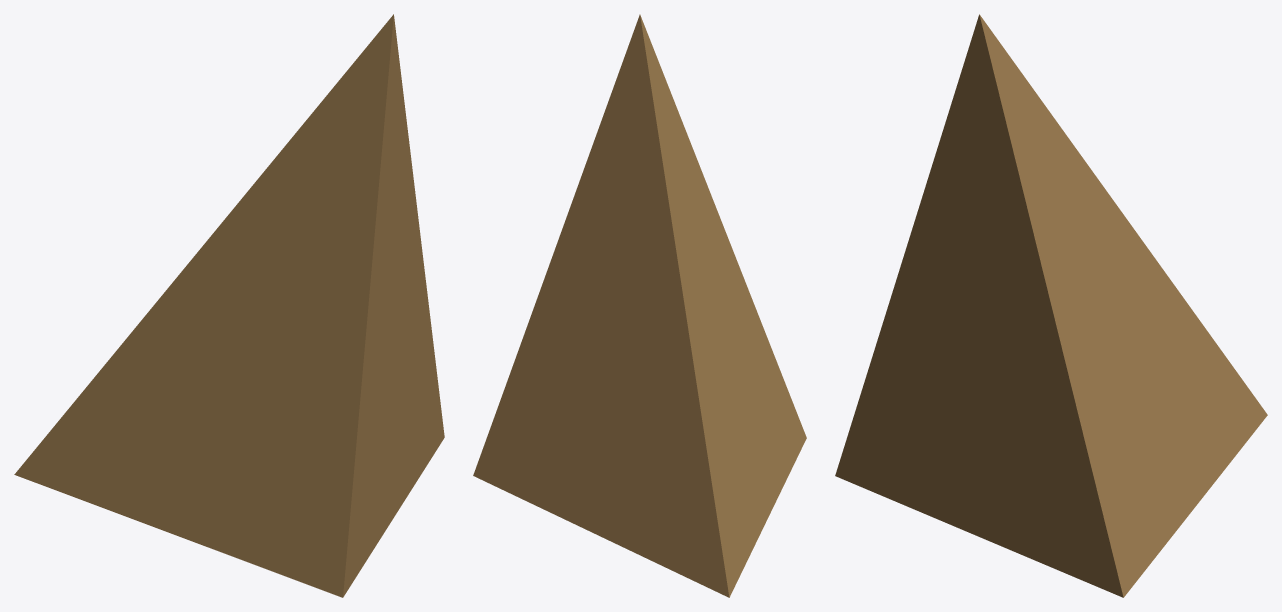
The model's file is Nose.fbx.
The picture shows the model from 3 angles, left to right: view 1: azimuth 30°, elevation 25°; view 2: azimuth 150°, elevation 25°; view 3: azimuth 270°, elevation 25°; orthographic projection. The views are drawn at different scales.
Visible parts, largest first — view 1: Cube; view 2: Cube; view 3: Cube.
Boxes of the visible parts, left/top/right/bottom form: Cube: left=14, top=14, right=444, bottom=597; Cube: left=473, top=14, right=806, bottom=597; Cube: left=835, top=14, right=1267, bottom=597.
Bounding box in the file's own units: 150 × 150 × 200.
